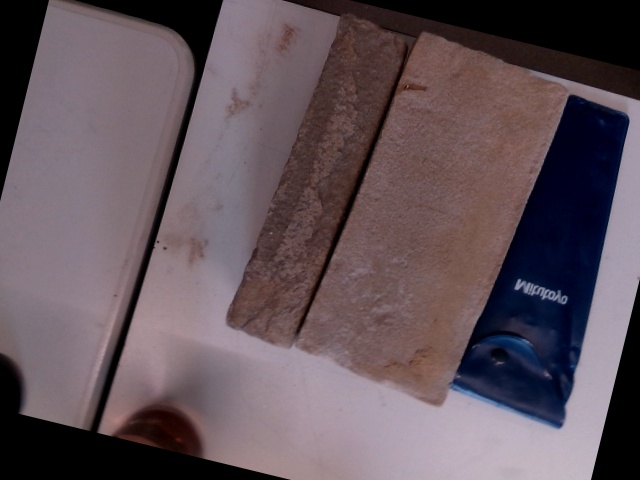brick: (299, 34, 569, 404)
